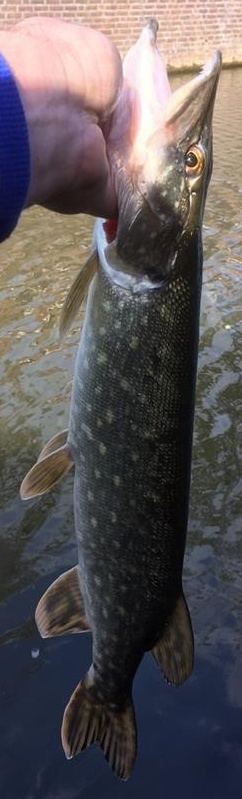Esox lucius: (20, 20, 222, 779)
